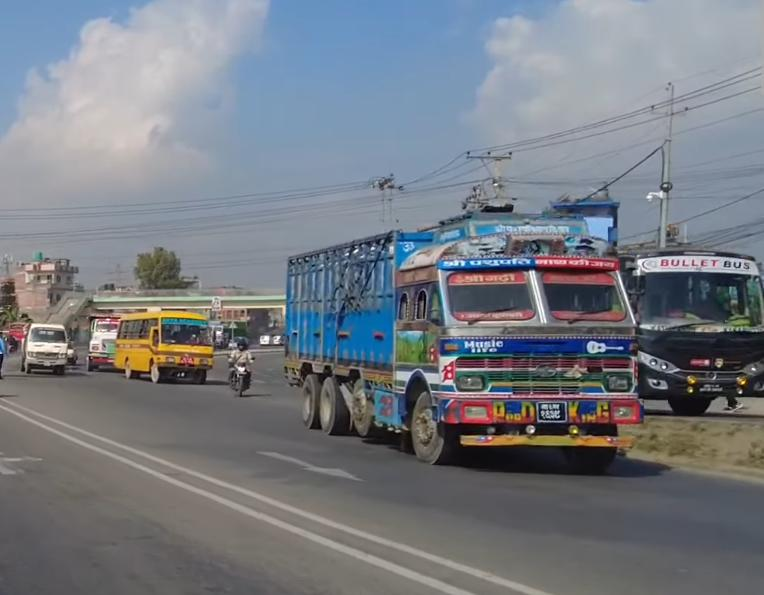bike: (227, 358, 253, 397)
bus: (619, 246, 763, 415)
school_bus: (113, 309, 214, 383)
truck: (282, 204, 645, 468)
